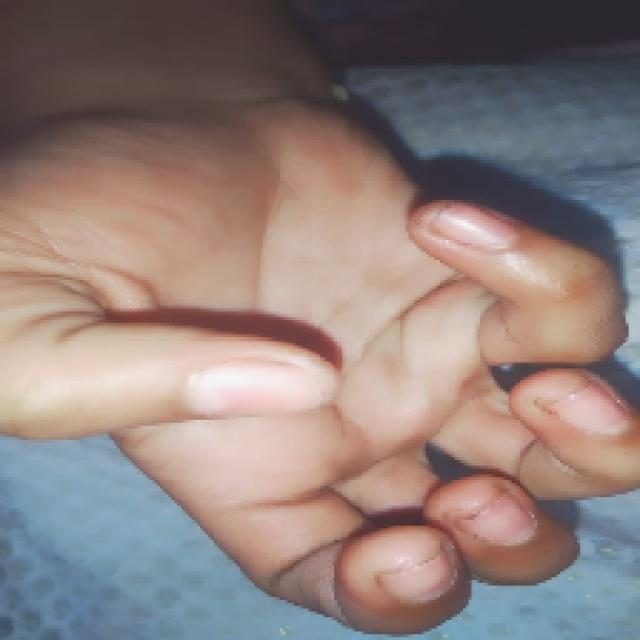Nail: (184, 360, 323, 416), (545, 378, 633, 435), (425, 200, 519, 249), (451, 492, 534, 546), (377, 548, 457, 603)
